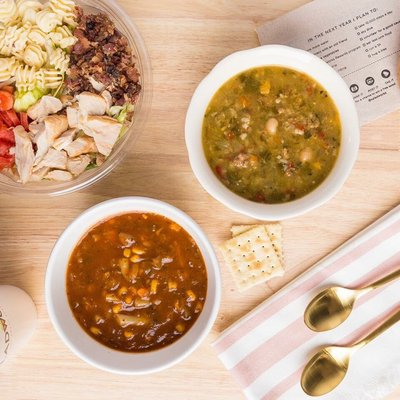sushi: (43, 197, 223, 377), (183, 44, 361, 223), (0, 0, 152, 197)
